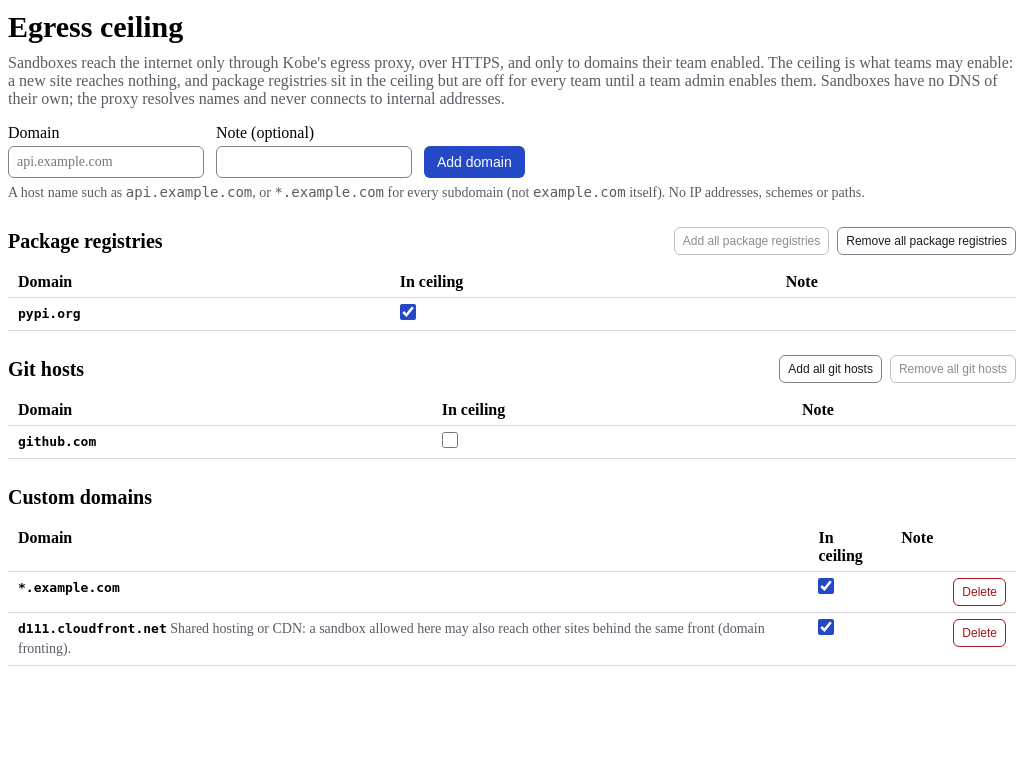
Site egress ceiling › toggles a domain and a whole preset, and deletes a custom domain
Click the checkbox named "github.com in the ceiling" in the row of "github.com" at (450, 440), box 442,432 -> 458,448
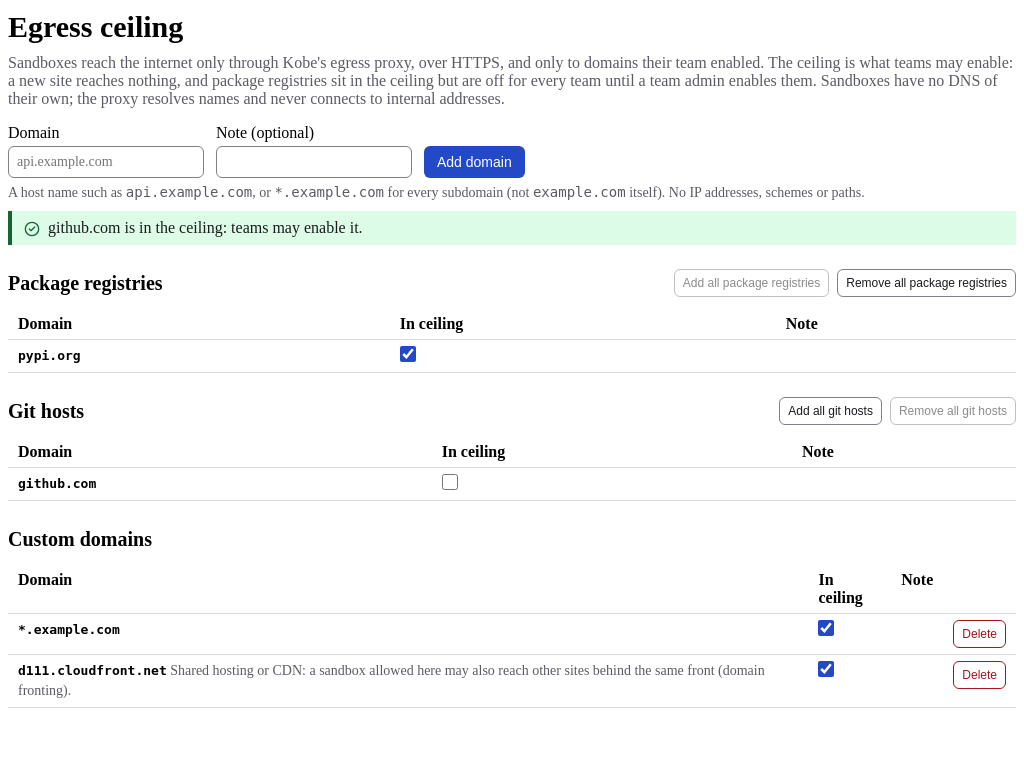
Check: the text "github.com is in the ceiling: teams may enable it." is shown, box 48,218 -> 363,236
Click the button "Remove all package registries" at (927, 282), box 837,268 -> 1016,296
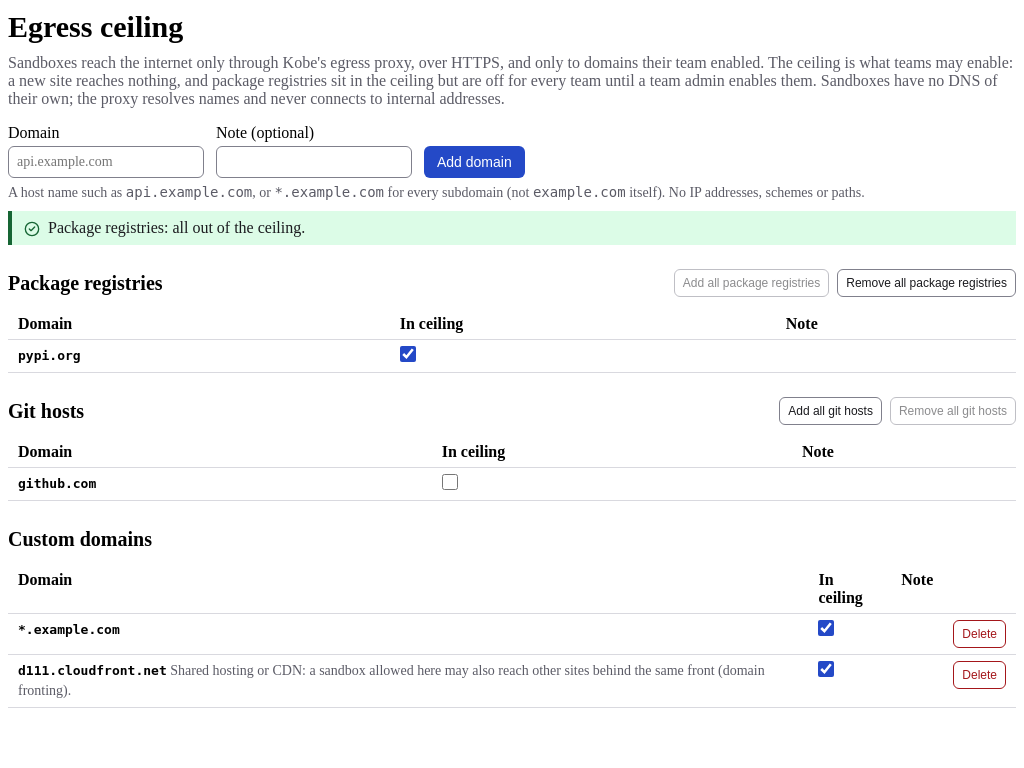
Check: the text "Package registries: all out of the ceiling." is shown, box 48,218 -> 305,236
Click the button named "Delete *.example.com" at (980, 634), box 953,620 -> 1006,648
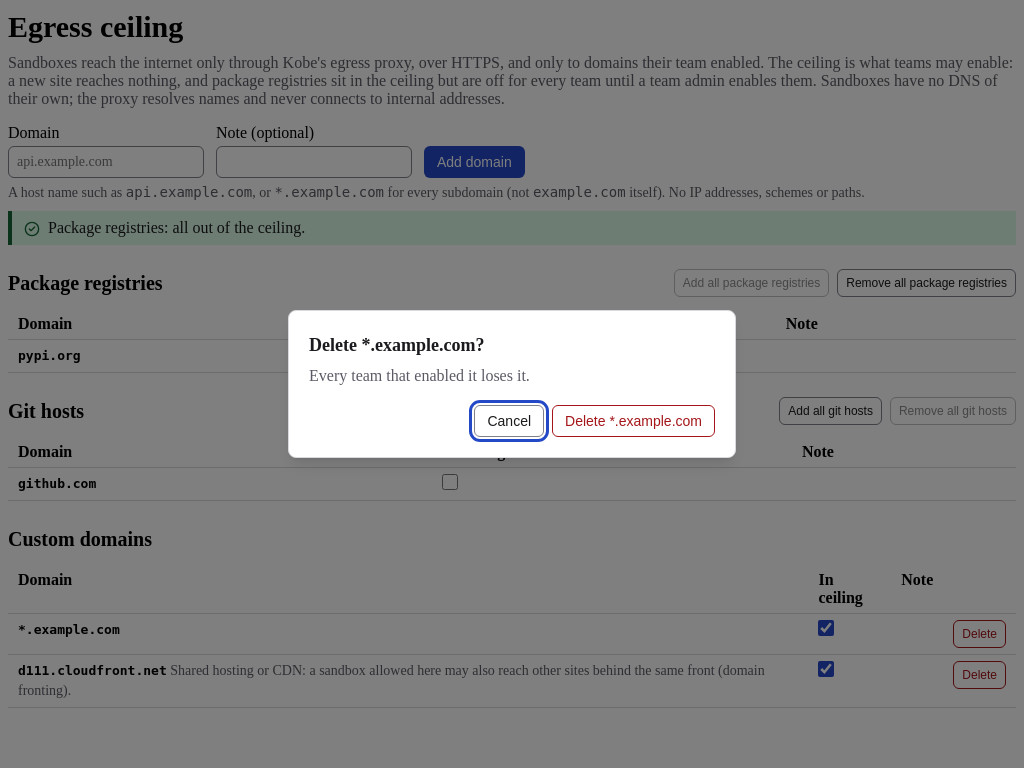
Click the button "Cancel" at (509, 421), box 474,405 -> 544,437
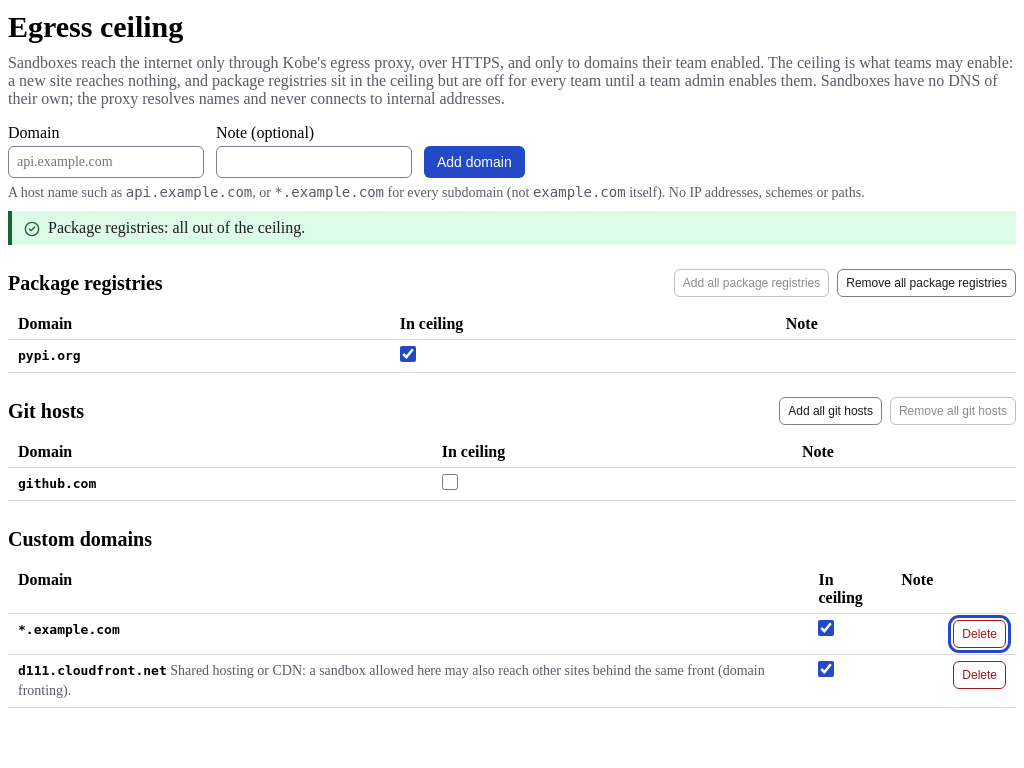
Click the button named "Delete *.example.com" at (980, 634), box 953,620 -> 1006,648
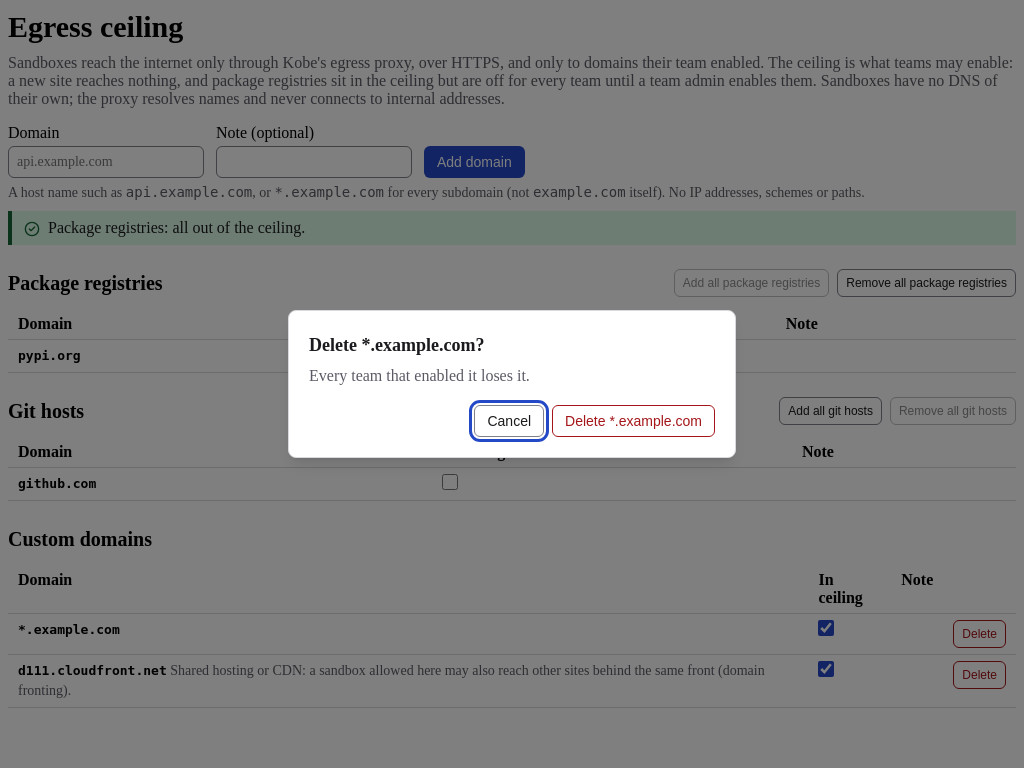
Click the button "Delete *.example.com" at (634, 421), box 552,405 -> 715,437
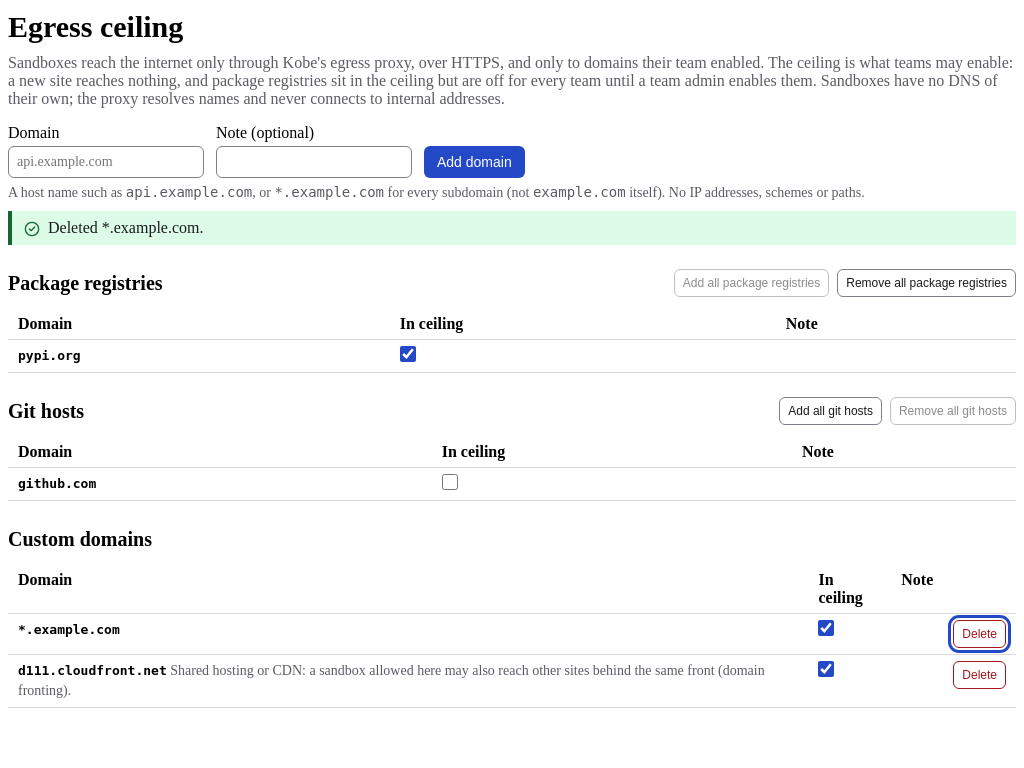
Check: the text "Deleted *.example.com." is shown, box 48,218 -> 204,236
